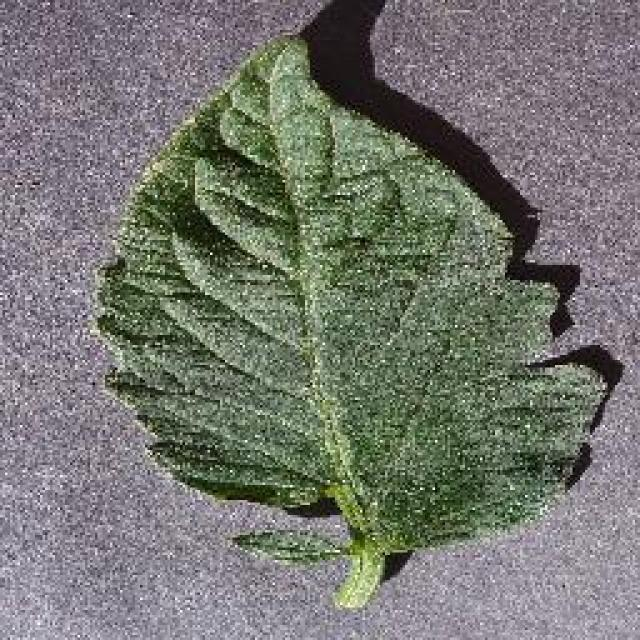Tomato healthy leaf: (98, 38, 602, 590)
